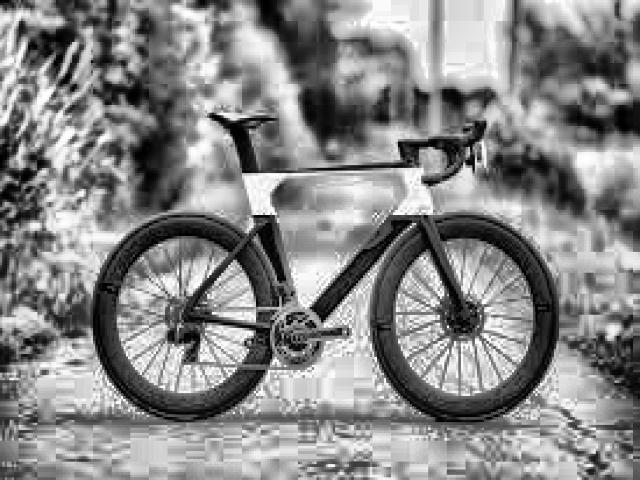cranks_set: (268, 308, 352, 369)
rear_derailleur: (161, 322, 205, 367)
saddle: (210, 107, 280, 134)
sti_shifter: (472, 116, 494, 173)
wheel: (368, 215, 560, 421), (90, 214, 278, 424)
